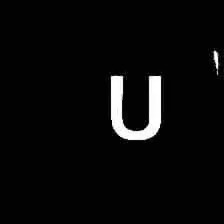LTR_U: (103, 68, 169, 144)
